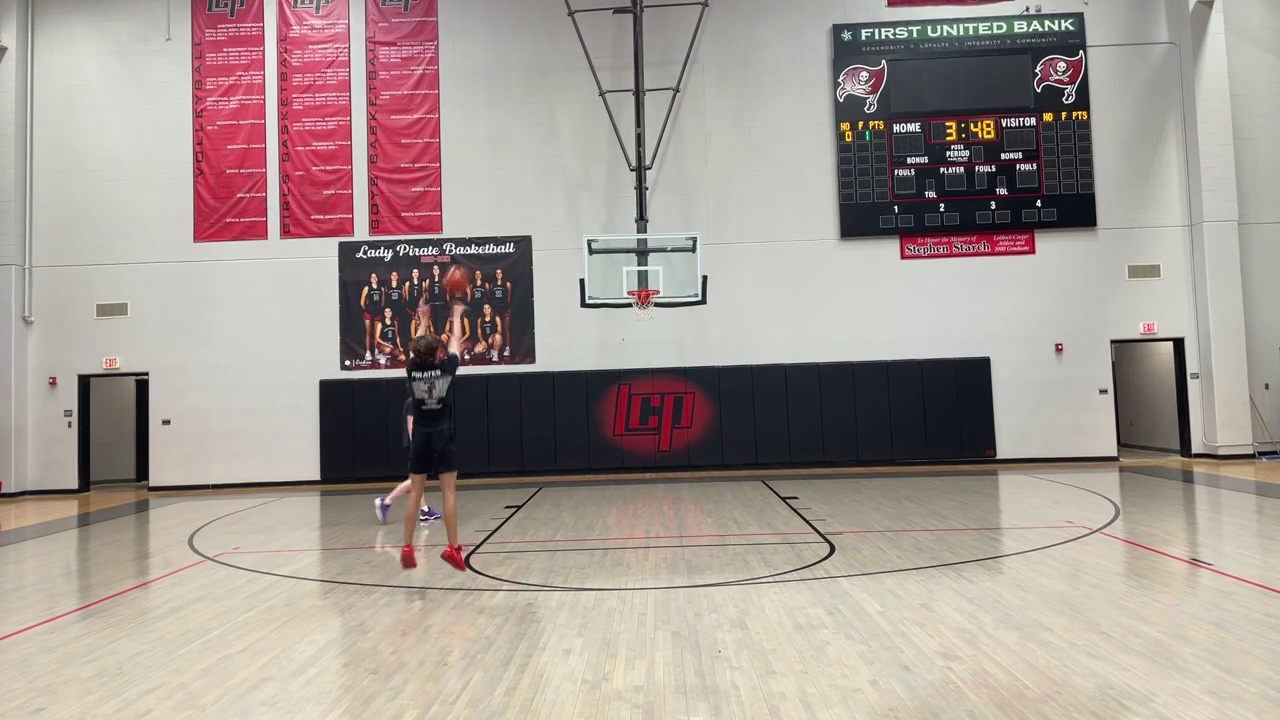shooting player: (373, 293, 469, 571)
